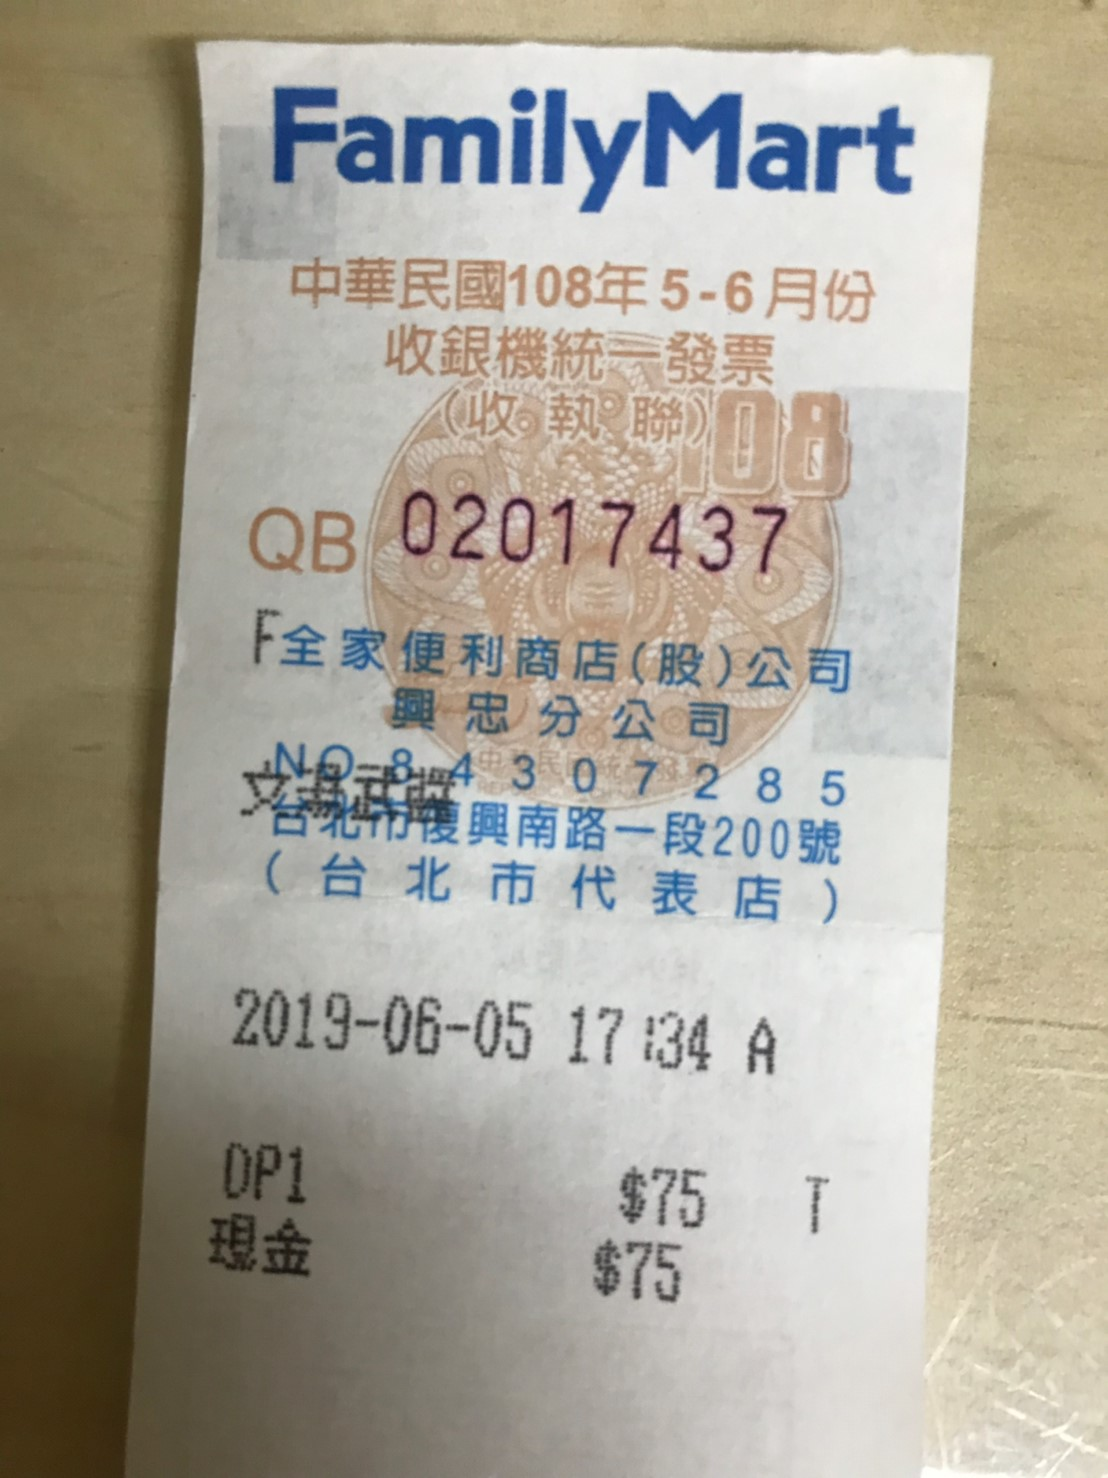Date_Old: (510, 254, 882, 329)
Number_Old: (393, 486, 794, 580)
